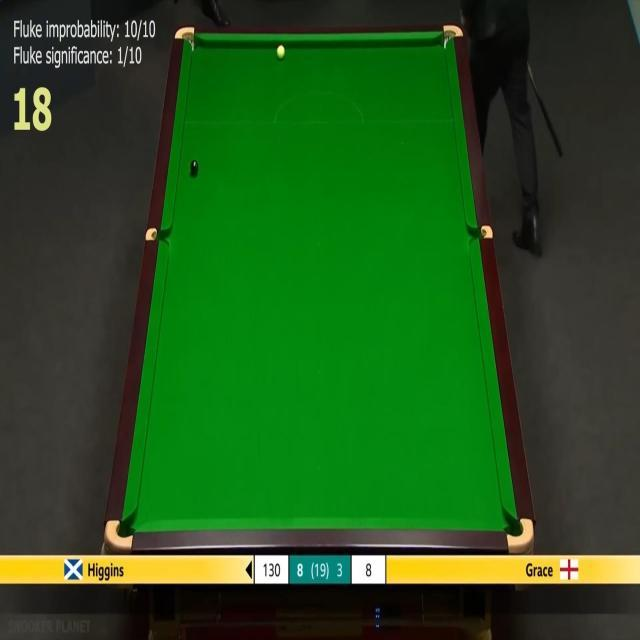Ball: (276, 45, 286, 59), (190, 160, 199, 174)
